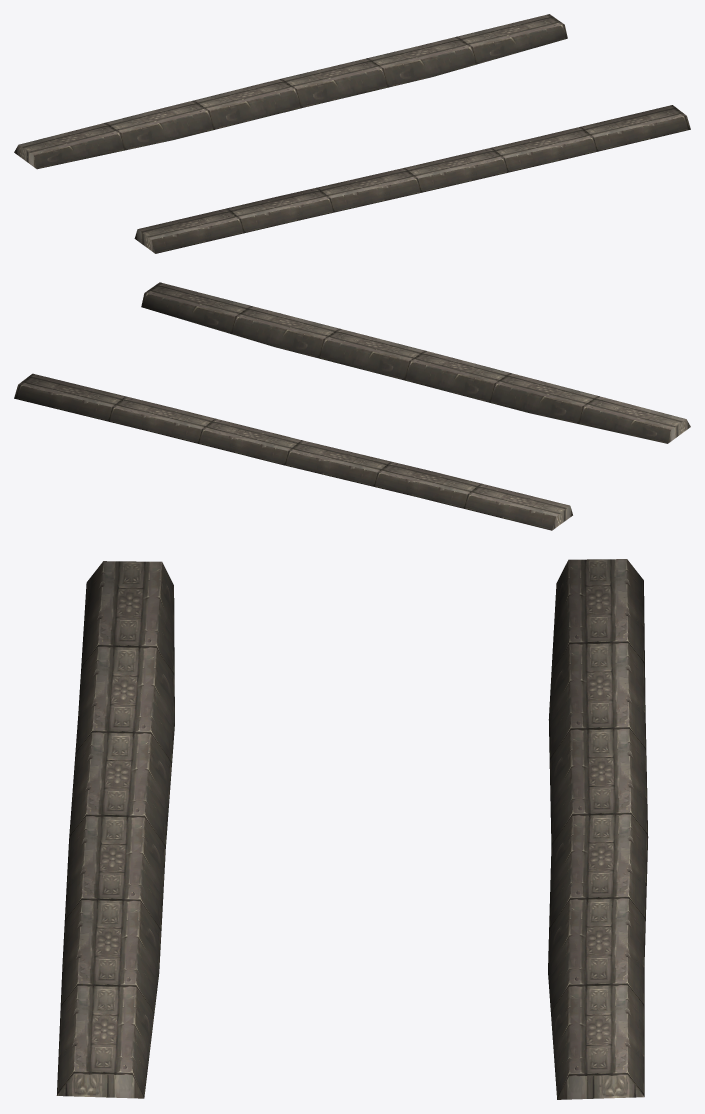
Rendered from wintergrasp_courtyardcurb01_set0.obj.
The picture shows the model from 3 angles, top to bottom: view 1: azimuth 30°, elevation 25°; view 2: azimuth 150°, elevation 25°; view 3: azimuth 270°, elevation 25°; orthographic projection. The views are drawn at different scales.
Parts seen in each view (by area): view 1: wintergrasp_courtyardcurb01_set0; view 2: wintergrasp_courtyardcurb01_set0; view 3: wintergrasp_courtyardcurb01_set0.
Boxes of the visible parts, left/top/right/bottom form: wintergrasp_courtyardcurb01_set0: left=14, top=14, right=690, bottom=253; wintergrasp_courtyardcurb01_set0: left=14, top=282, right=690, bottom=530; wintergrasp_courtyardcurb01_set0: left=56, top=559, right=648, bottom=1099.
Size of the model in its own units: 103 by 2.87 by 49.58.
1 material, 1 textured.
